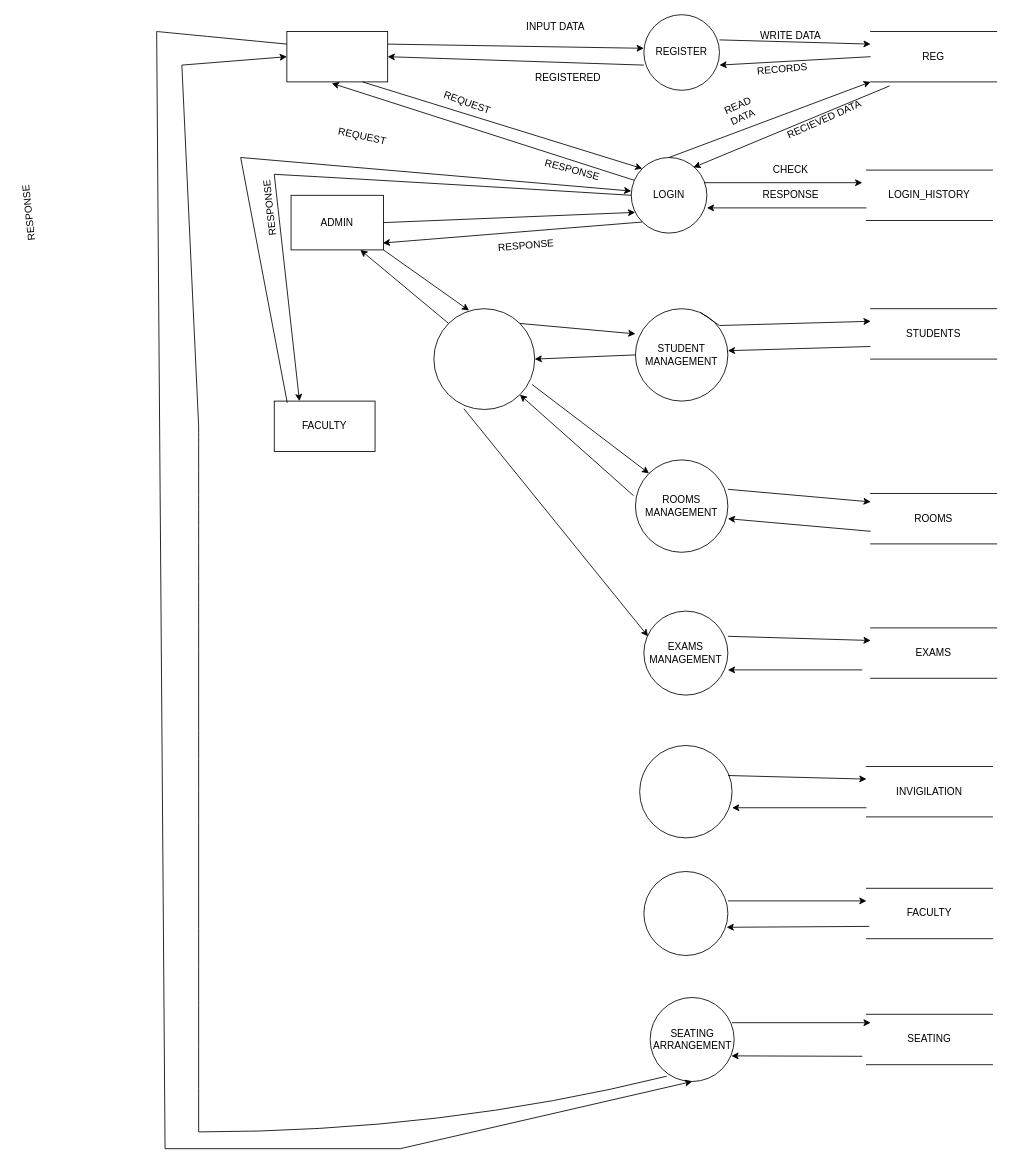
Image size: 1012x1170. Some labels were removed from this diagram. Each missing label, with the centre of its shape:
ADMIN MODULE: the point at 484,359
FACULTY MANAGEMENT: the point at 685,913
INVIGILATOR MANAGEMENT: the point at 685,791
STUDENT: the point at 337,56
